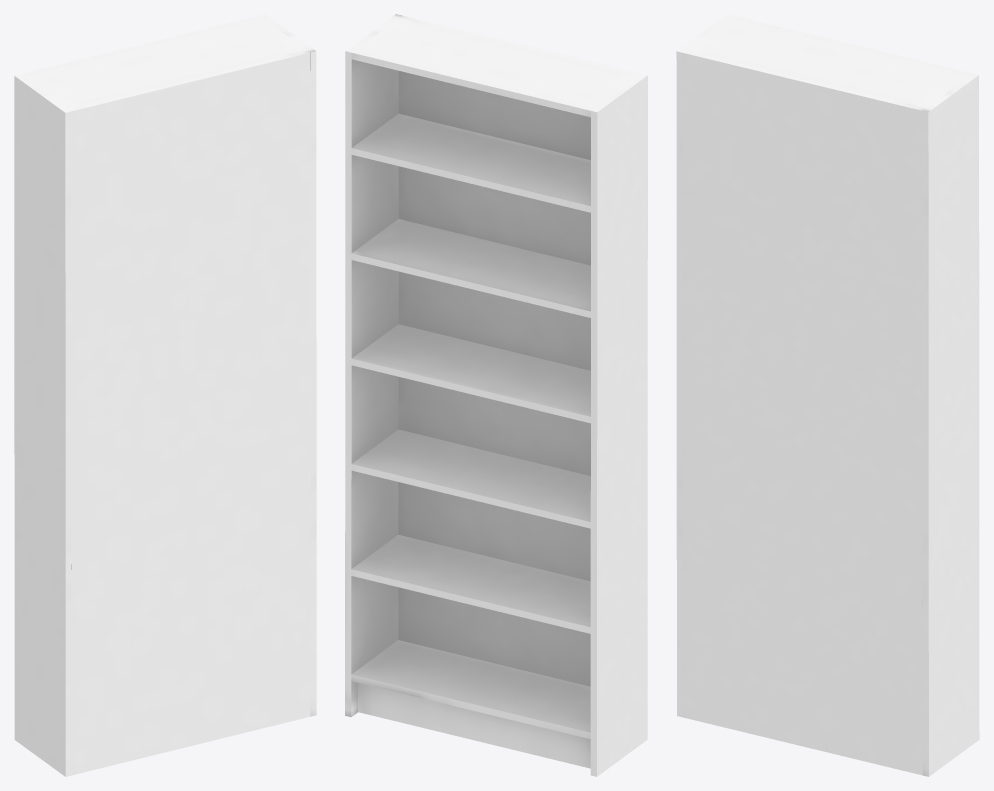
File: Shelf.glb
3 views of the same model, side by side, from view 1: azimuth 30°, elevation 25°; view 2: azimuth 150°, elevation 25°; view 3: azimuth 330°, elevation 25° (orthographic).
Visible parts, largest first — view 1: Shelf; view 2: Shelf; view 3: Shelf.
Boxes of the visible parts, box(x1,y1,x2,y2) form: Shelf: box(14, 14, 316, 776); Shelf: box(345, 14, 647, 776); Shelf: box(676, 14, 979, 776).
Size of the model in its own units: 0.7688 by 1.94 by 0.2715.
Materials: 1 (1 with a texture image).
